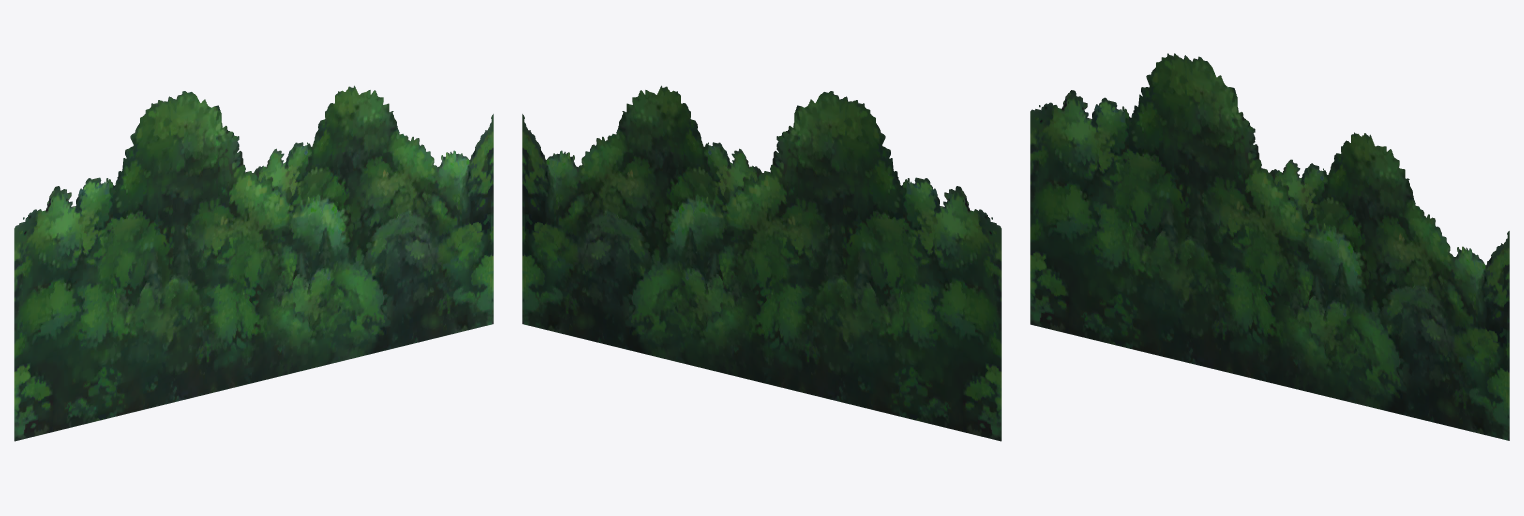
Rendered from beijing01.FBX.
3 views of the same model, side by side, from view 1: azimuth 30°, elevation 25°; view 2: azimuth 150°, elevation 25°; view 3: azimuth 330°, elevation 25° (orthographic).
Parts seen in each view (by area): view 1: Object085; view 2: Object085; view 3: Object085.
Part boxes in pixels (x1=…): Object085: x1=14, y1=85, x2=493, y2=441; Object085: x1=522, y1=85, x2=1001, y2=441; Object085: x1=1030, y1=53, x2=1509, y2=440.
Size of the model in its own units: 6042 by 4472 by 0.
